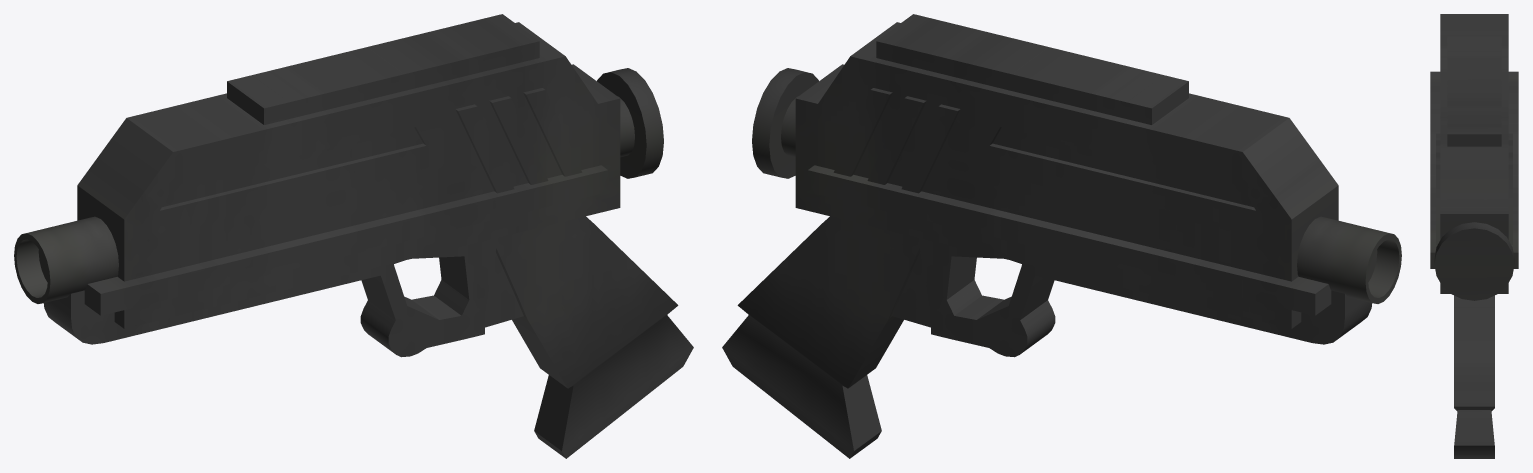
File: dc-17_hand_blaster.FBX
3 renders of one model, left to right at view 1: azimuth 30°, elevation 25°; view 2: azimuth 150°, elevation 25°; view 3: azimuth 270°, elevation 25°, orthographic. The views are drawn at different scales.
Visible parts, largest first — view 1: DC-17 hand blaster; view 2: DC-17 hand blaster; view 3: DC-17 hand blaster.
Part boxes in pixels (box(x1,y1,x2,y2)): DC-17 hand blaster: box(14, 14, 693, 458); DC-17 hand blaster: box(722, 14, 1401, 458); DC-17 hand blaster: box(1430, 14, 1518, 458).
Size of the model in its own units: 231 by 146 by 37.21.
Materials: 1 (1 with a texture image).
